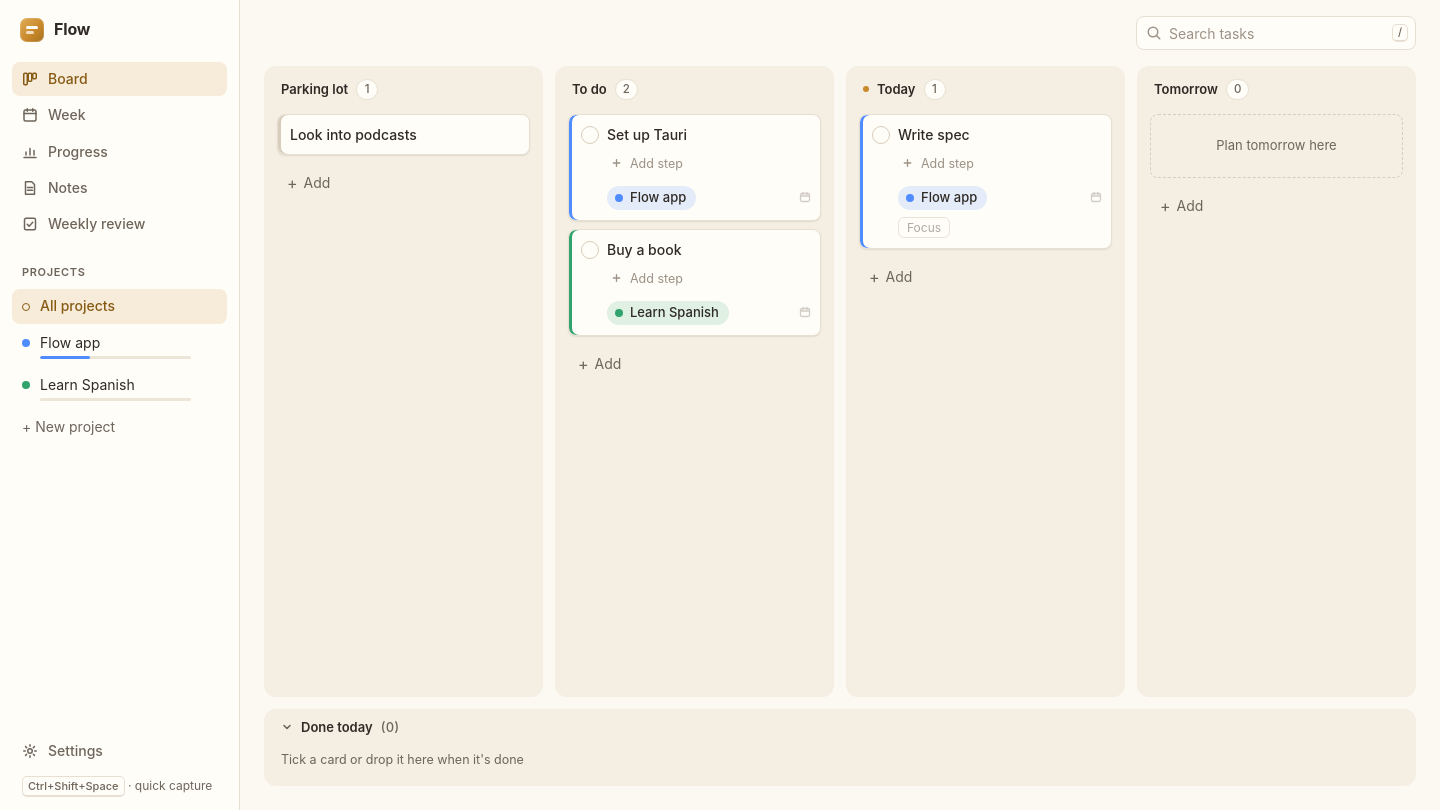
Sidebar › right-click opens the menu; Escape and an outside click close it
Expected: the button "Buy a book" is shown, [607,240,810,259]
Right-click the button "Learn Spanish" at (120, 388), box [12,368,227,408]
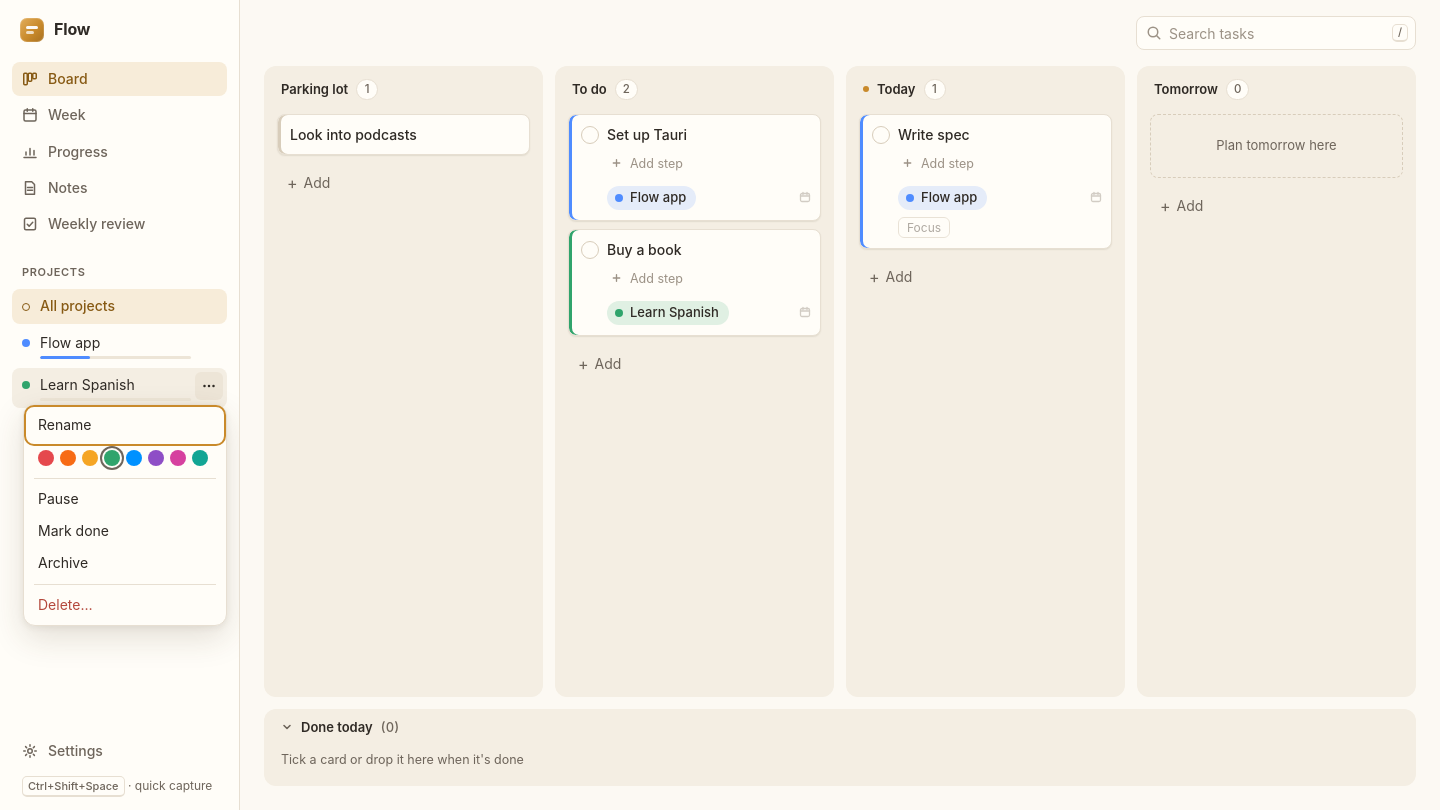
Expected: the menu named "Learn Spanish menu" is shown, [23,404,227,626]
Press Escape
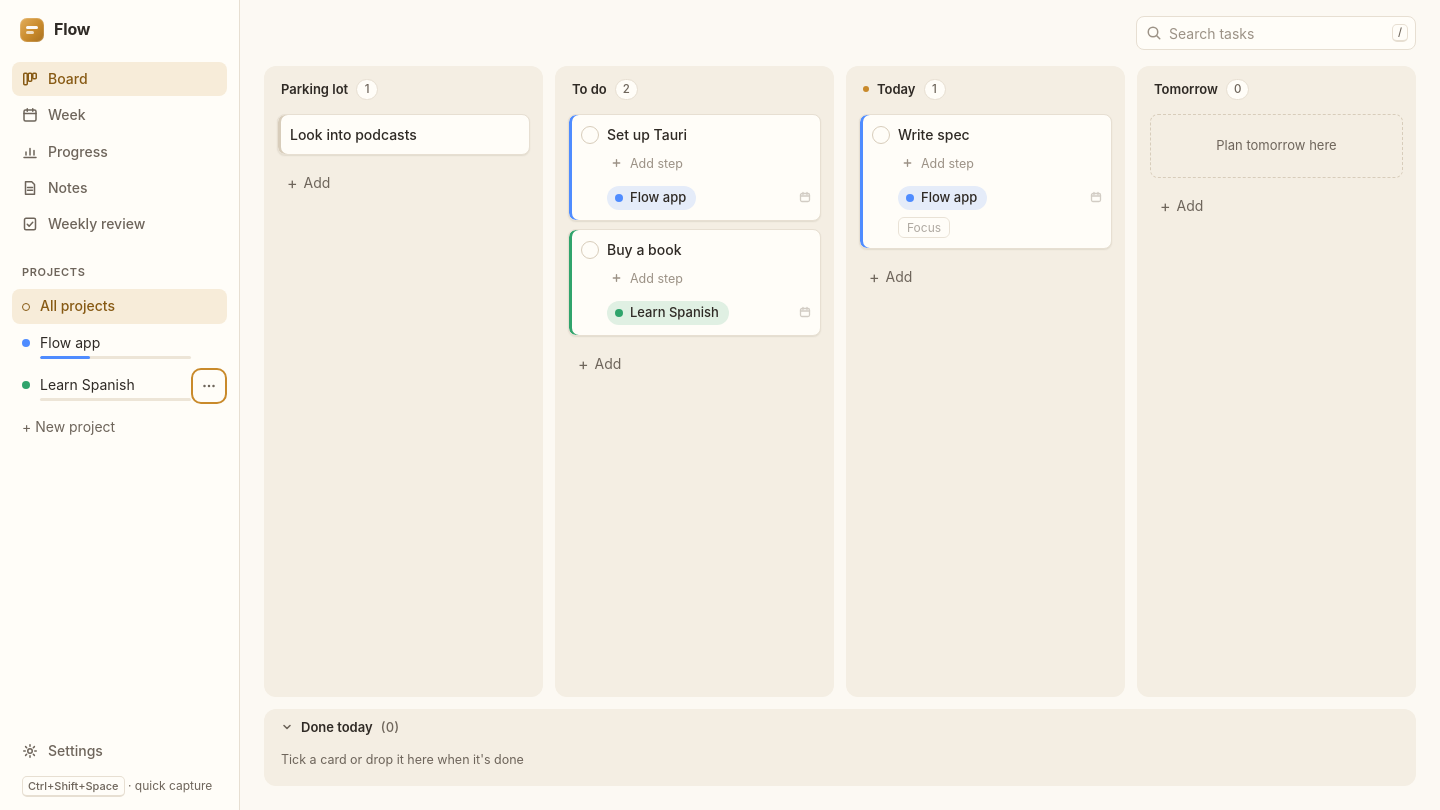
Expected: the menu is gone
Click the button named "Project menu for Learn Spanish" at (209, 386), box [195,372,223,400]
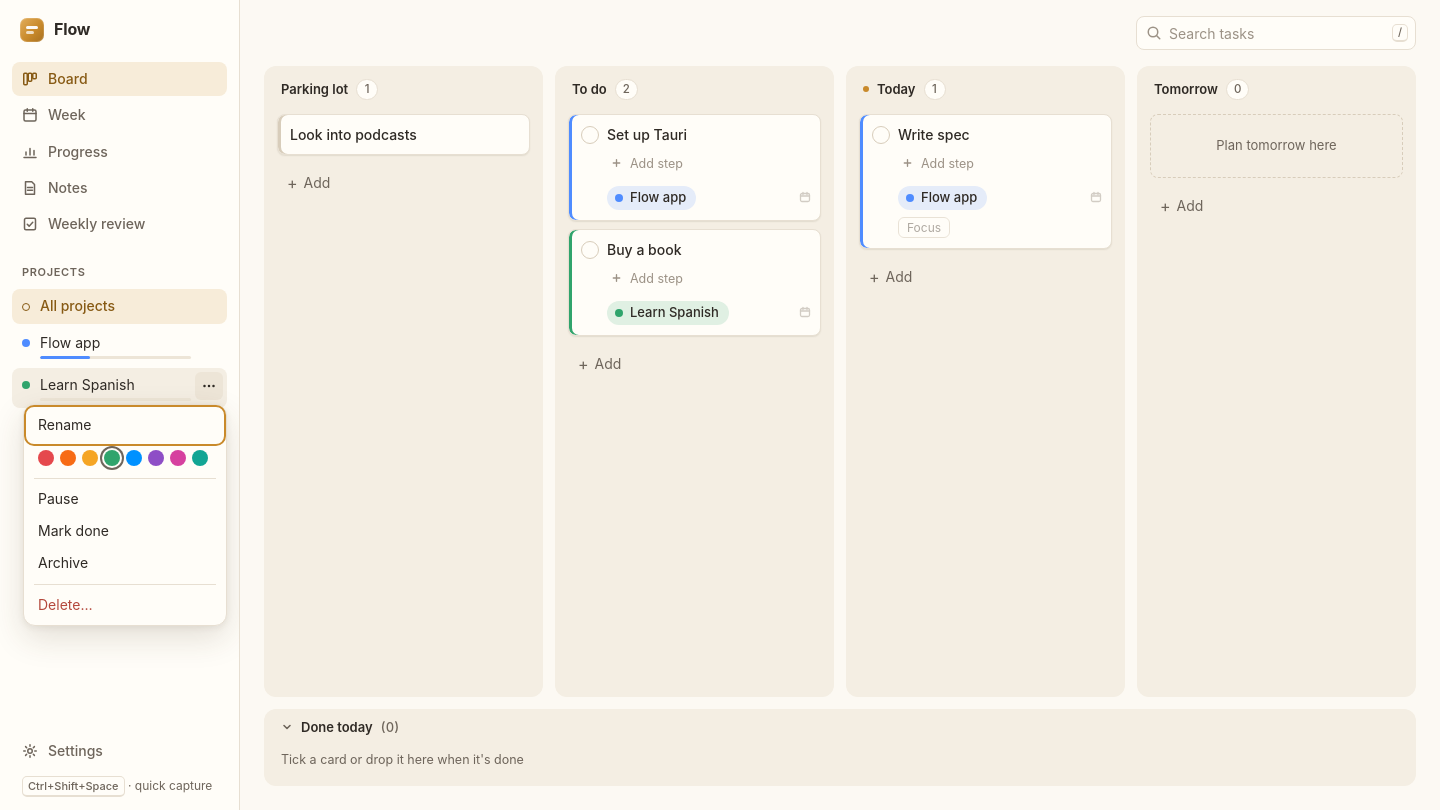
Expected: the menu is shown, [23,404,227,626]
Click the heading "To do" at (589, 89), box [572,80,607,99]
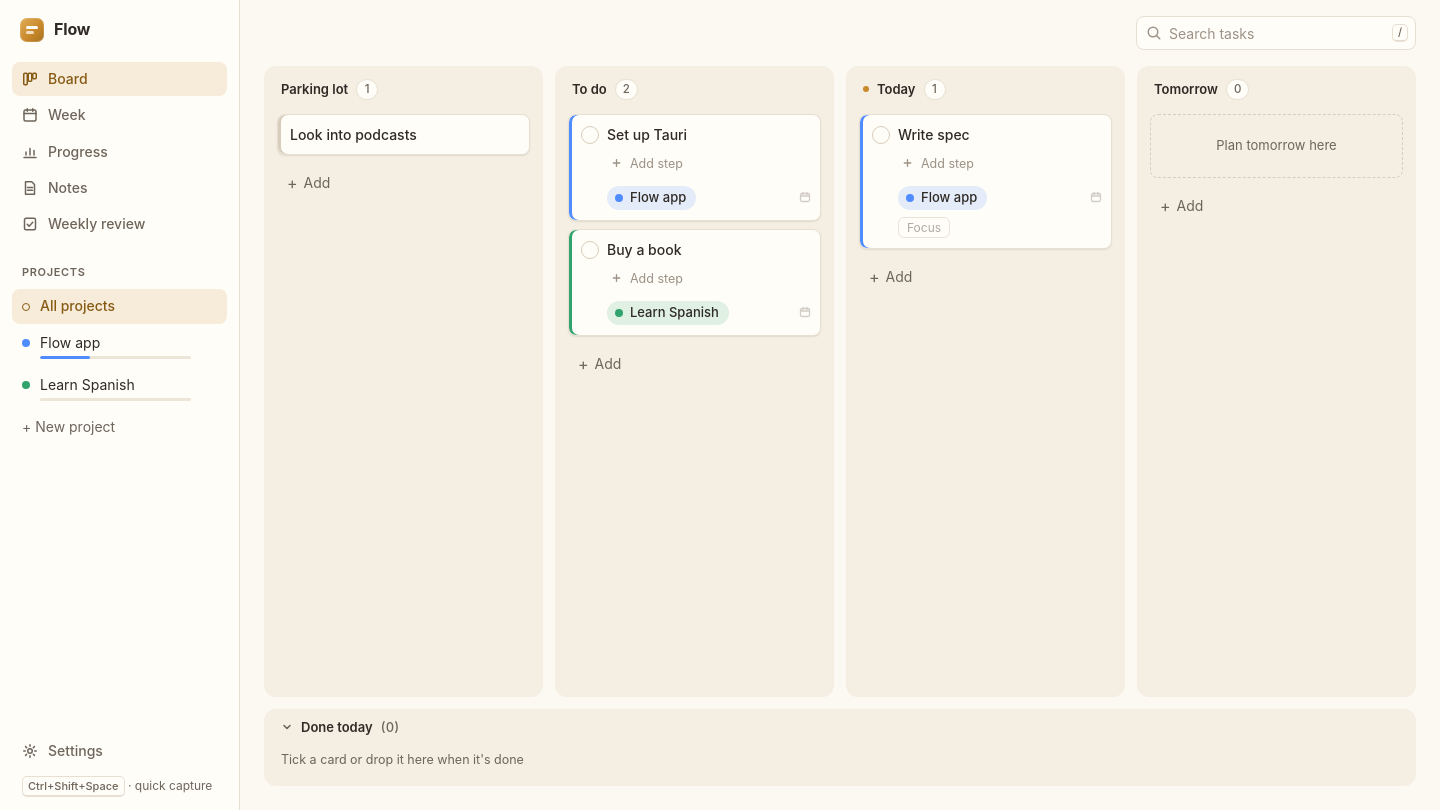
Expected: the menu is gone
